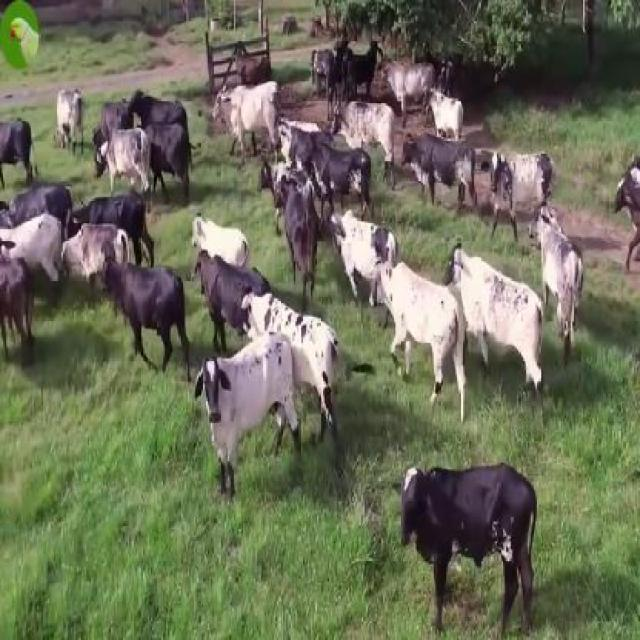Cow: (398, 462, 537, 628), (200, 338, 300, 497), (109, 263, 191, 379), (536, 205, 586, 348)
